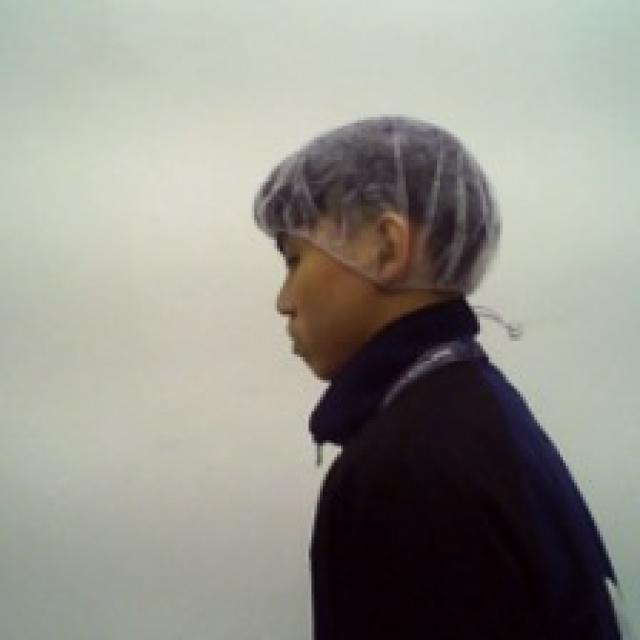gloves: (249, 105, 512, 298)
no_hairnet: (270, 206, 420, 384)
